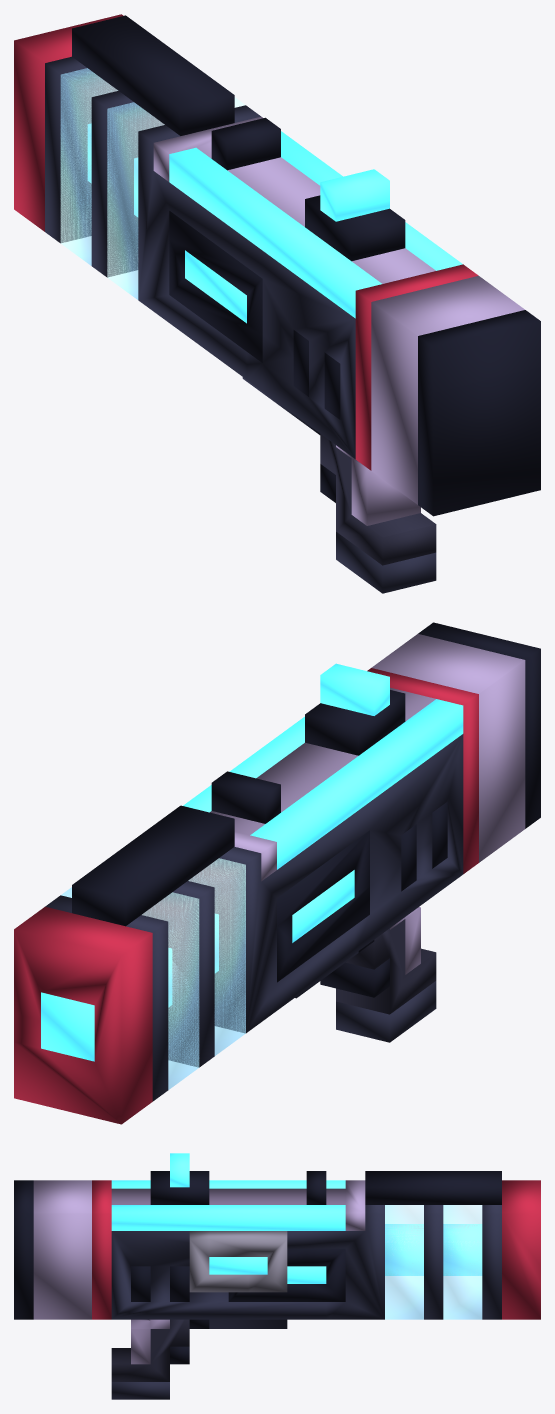
File: beam-rifle.lod1.glb
3 renders of one model, top to bottom at view 1: azimuth 30°, elevation 25°; view 2: azimuth 150°, elevation 25°; view 3: azimuth 270°, elevation 25°, orthographic. The views are drawn at different scales.
Parts seen in each view (by area): view 1: beam-rifle.body; view 2: beam-rifle.body; view 3: beam-rifle.body, part.cell.
Boxes of the visible parts, x1=… form: beam-rifle.body: x1=14, y1=14, x2=540, y2=593; beam-rifle.body: x1=14, y1=622, x2=540, y2=1124; beam-rifle.body: x1=14, y1=1153, x2=540, y2=1399; part.cell: x1=189, y1=1231, x2=287, y2=1292.
Size of the model in its own units: 0.1562 by 0.4062 by 0.8438.
